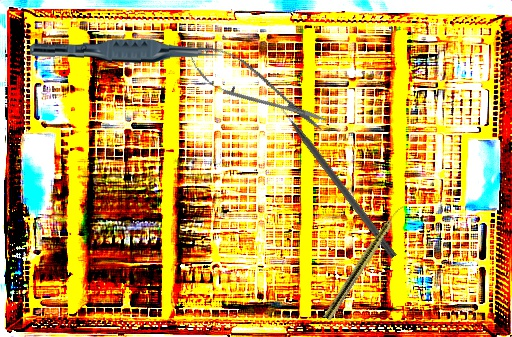Handpiece: (322, 201, 407, 322)
Hook Surgical: (270, 94, 399, 260)
Micro Scissor: (180, 35, 334, 143)
Tissue Forceps: (29, 35, 224, 69)
